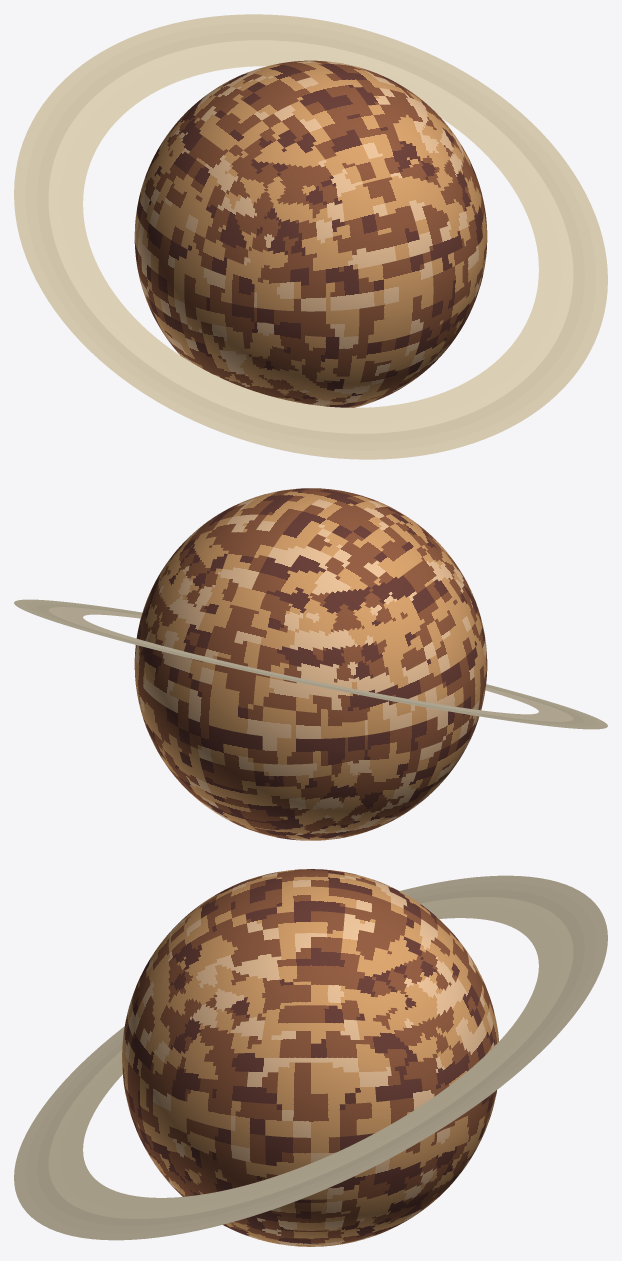
Rendered from amber.glb.
3 renders of one model, top to bottom at view 1: azimuth 30°, elevation 25°; view 2: azimuth 150°, elevation 25°; view 3: azimuth 270°, elevation 25°, orthographic. The views are drawn at different scales.
Parts seen in each view (by area): view 1: Surface, Rings; view 2: Surface, Rings; view 3: Surface, Rings.
Part boxes in pixels (bbox=[...]): Surface: bbox=[134, 60, 487, 407]; Rings: bbox=[14, 14, 607, 459]; Surface: bbox=[134, 488, 487, 840]; Rings: bbox=[14, 599, 607, 729]; Surface: bbox=[122, 869, 498, 1246]; Rings: bbox=[14, 875, 607, 1240].
Size of the model in its own units: 3.44 by 2 by 3.14.
Materials: 7 (6 with a texture image).
